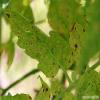Tomato Septoria leaf spot: (4, 8, 74, 76), (66, 15, 91, 75)
